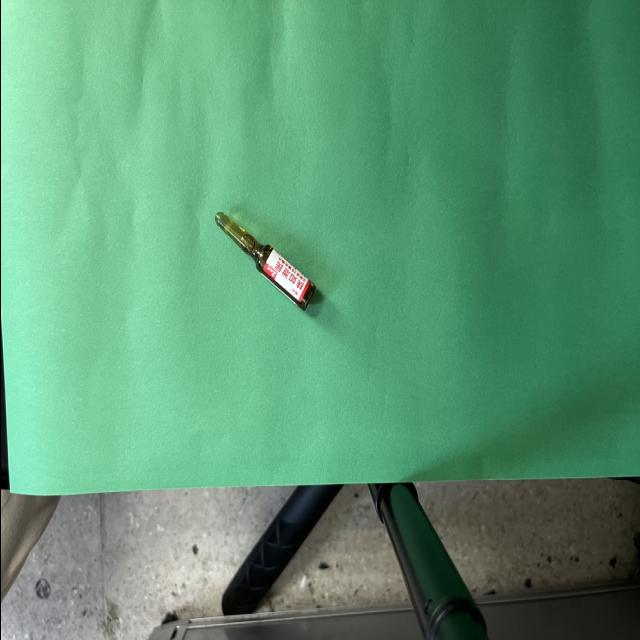Ampoules: (214, 213, 314, 310)
